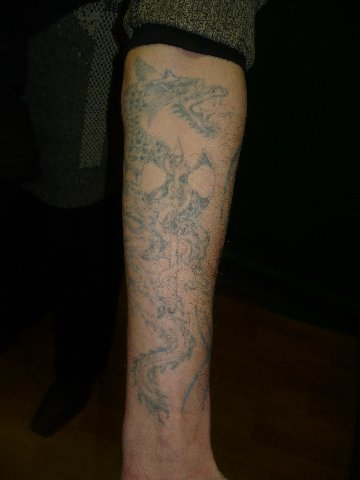tatu6_drakon: (107, 38, 250, 440)
